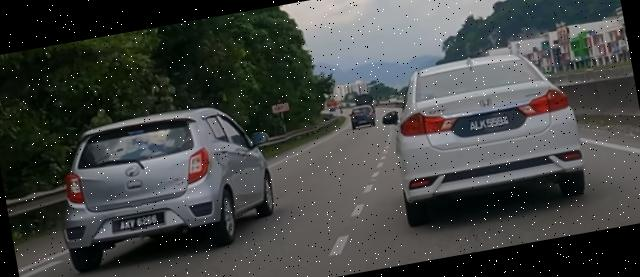License_Plate: (110, 210, 167, 234), (465, 112, 518, 135)
car: (46, 95, 286, 275), (374, 41, 592, 230), (348, 105, 378, 131)
